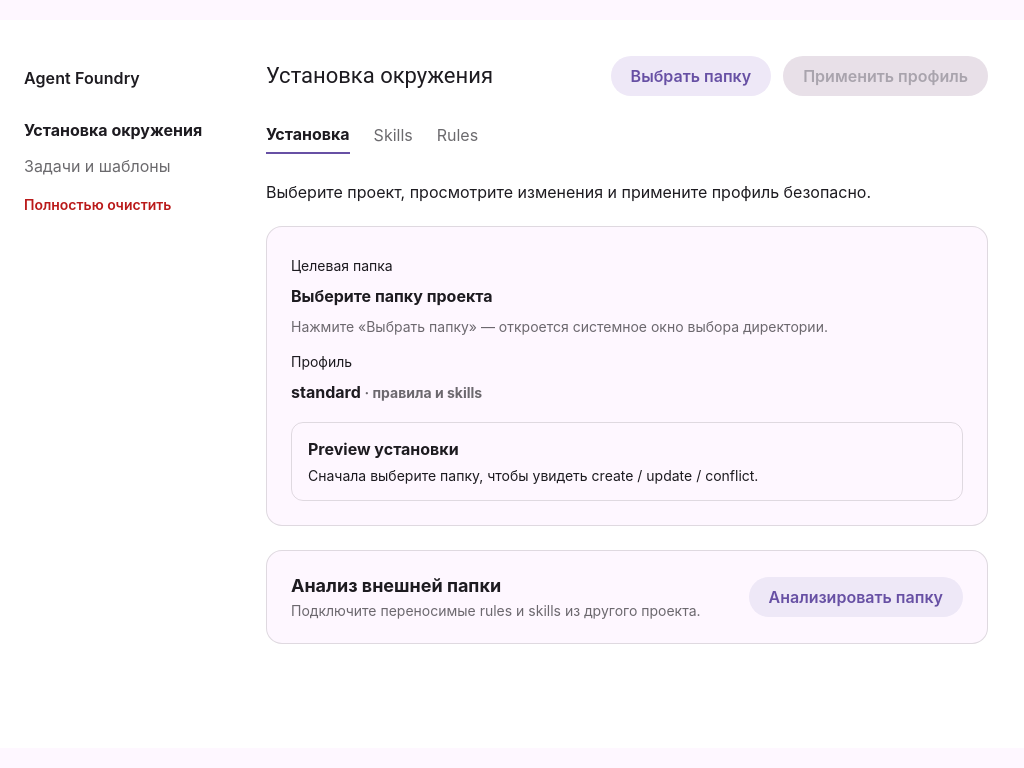
Test: Environment UI › безопасно переключает Skills и Rules с разным количеством файлов
The image size is (1024, 768).
Click the tab "Skills".
click(393, 139)  # box [374,124,413,154]
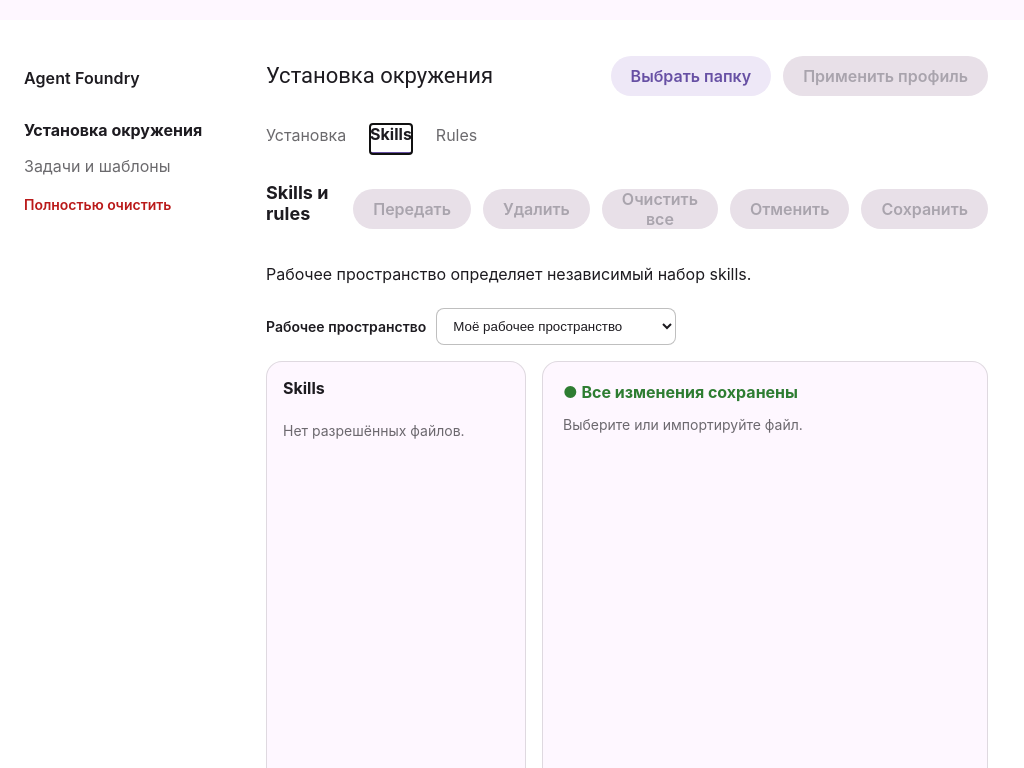
Check: the text "Нет разрешённых файлов." is shown, box [283,422,465,439]
Click the tab "Rules".
click(456, 139)  # box [436,124,477,154]
(page scrolled)
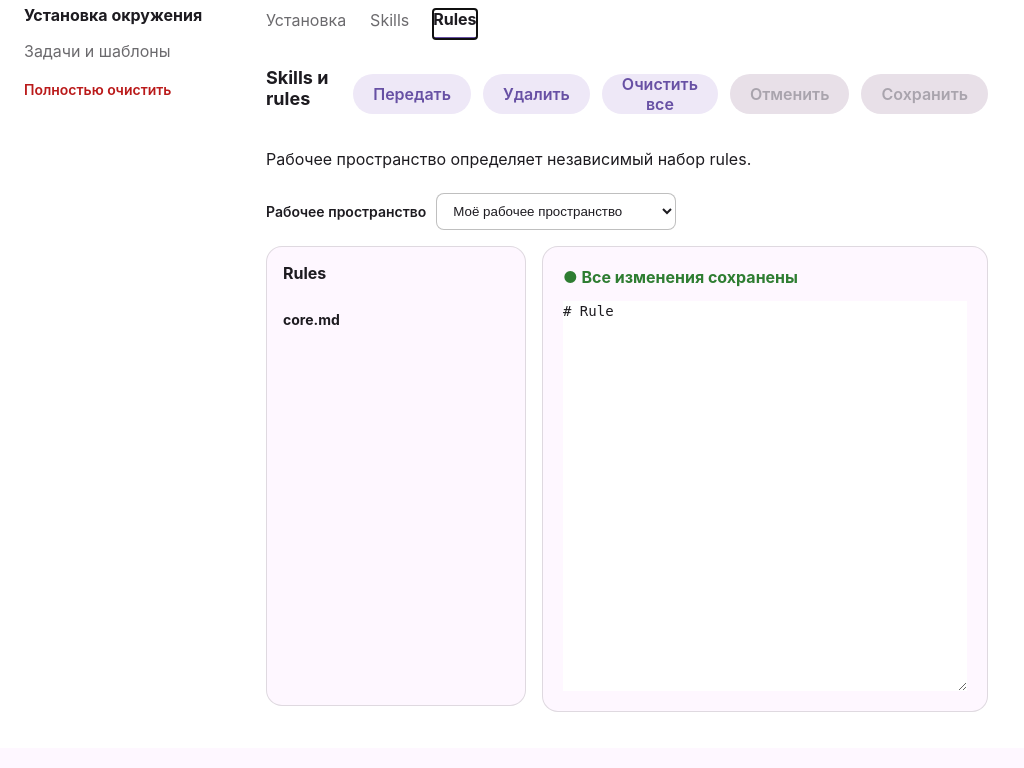
Check: the text box named "rules: rules/core.md" holds "# Rule", box [563,301,967,691]
